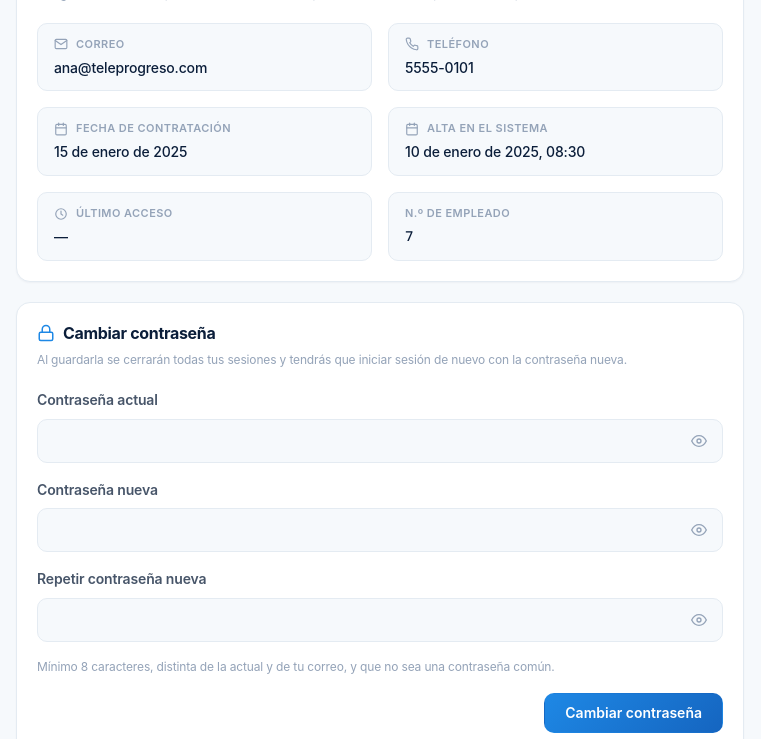
Test: PerfilPage › el error de un campo desaparece al corregirlo
(page scrolled)
Click the button "Cambiar contraseña".
click(634, 712)  # box [544, 692, 723, 732]
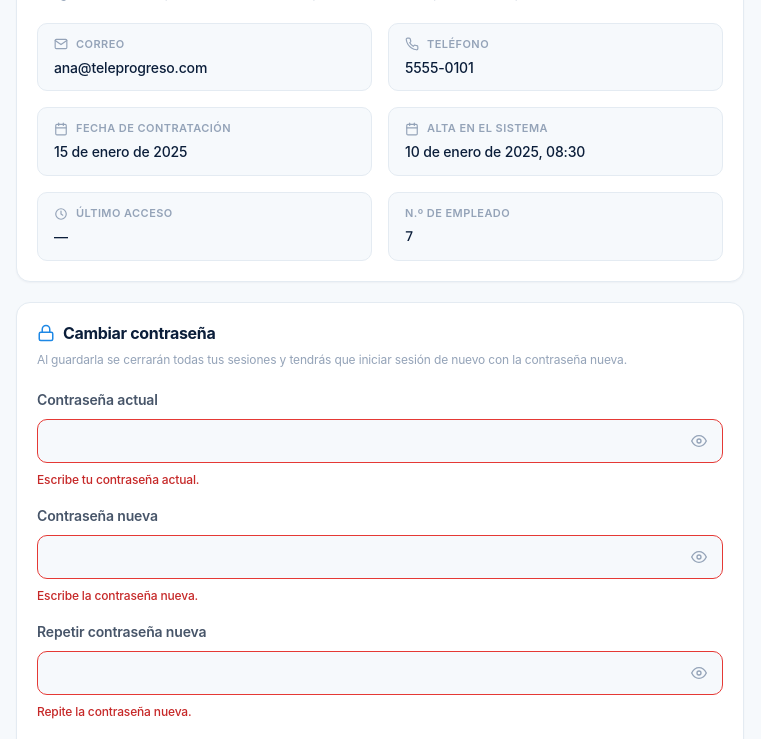
expect the text "Escribe tu contraseña actual." is shown: met, box [37, 472, 199, 487]
Type "V" into the password field labelled "Contraseña actual".
click(380, 441); type("V")  # box [37, 419, 723, 463]
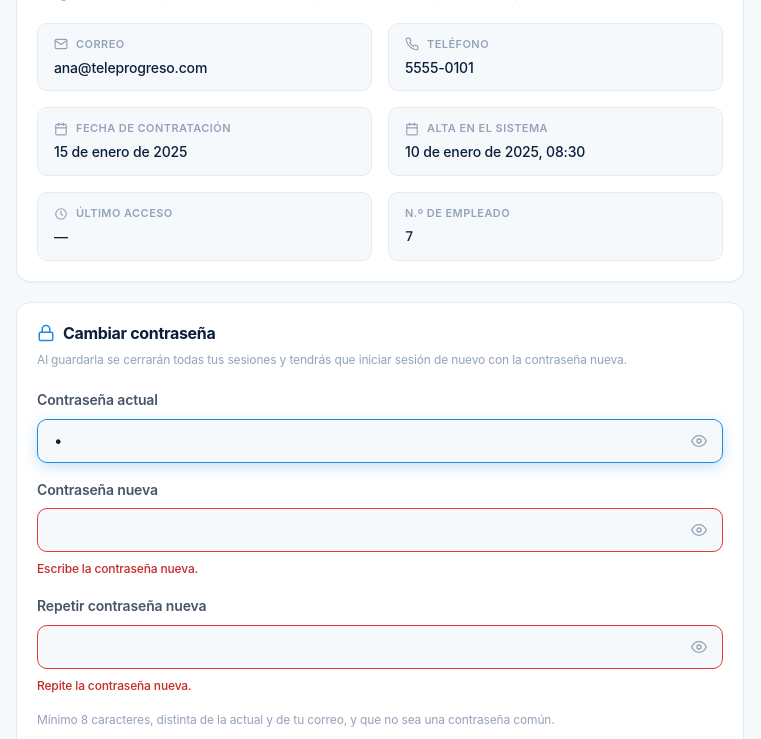
expect the text "Escribe tu contraseña actual." is gone: met
